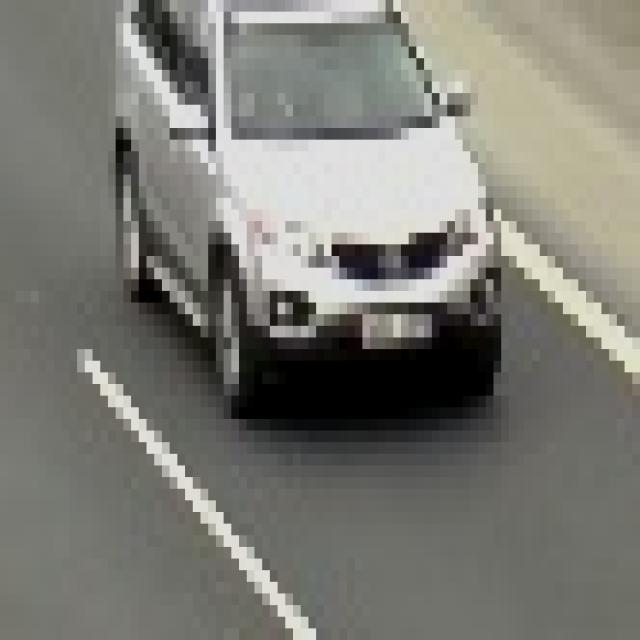SUV: (124, 1, 486, 396)
